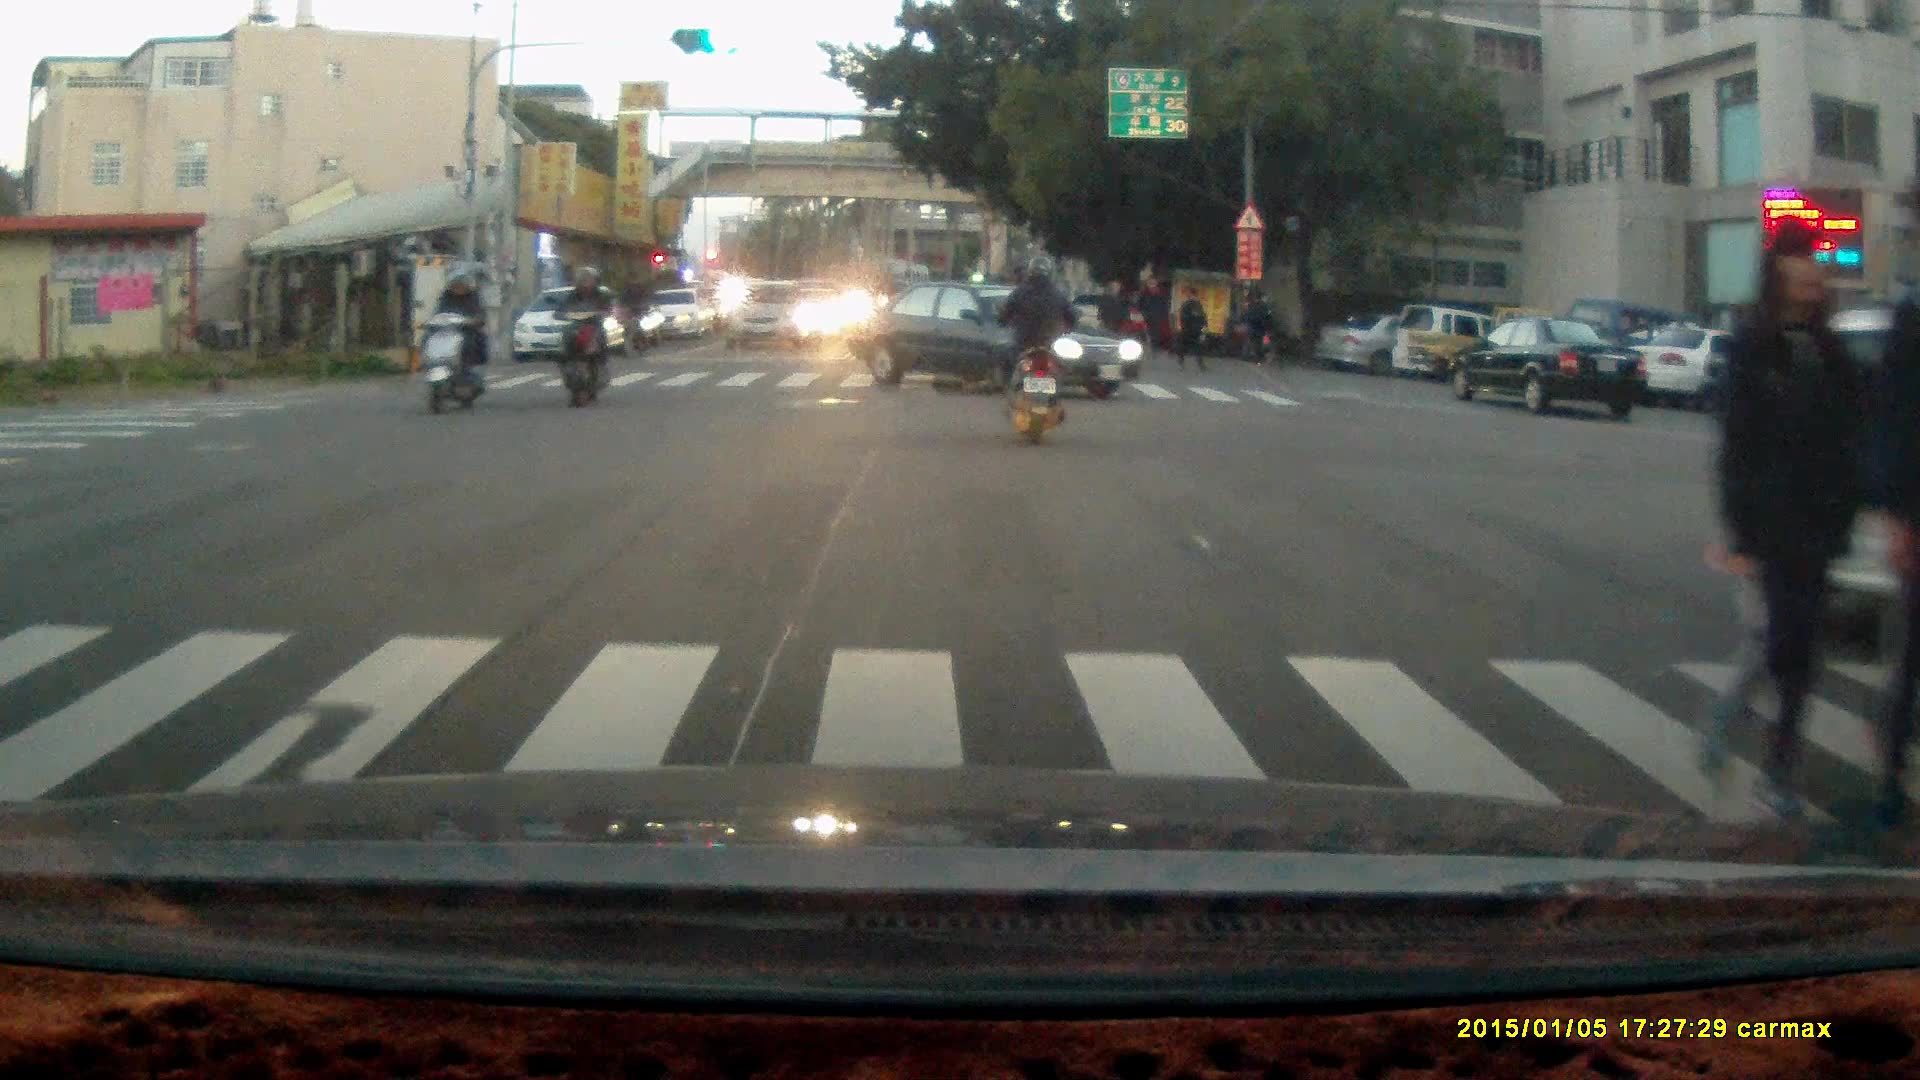pedestrian: (1695, 217, 1876, 821), (1133, 271, 1168, 362), (1175, 283, 1208, 375), (1098, 279, 1128, 361), (1243, 288, 1274, 365)
rider: (991, 252, 1078, 446), (420, 262, 490, 415), (546, 264, 616, 411), (617, 267, 654, 364)
vehicle: (840, 274, 1143, 402), (1457, 315, 1654, 415), (1618, 320, 1805, 409), (1314, 310, 1493, 373), (514, 287, 633, 367), (729, 280, 822, 358)
